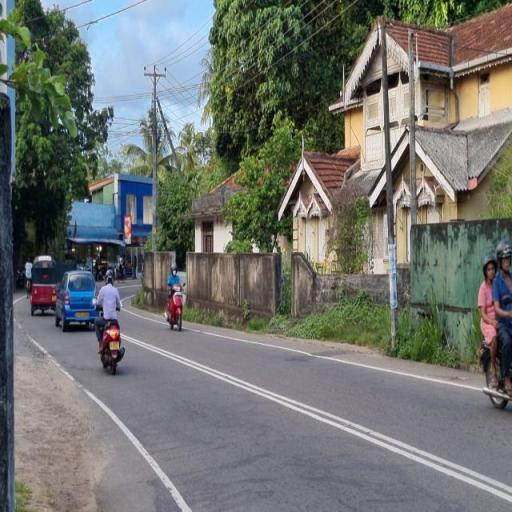double_white_line: (170, 327, 509, 510), (297, 158, 335, 220)
